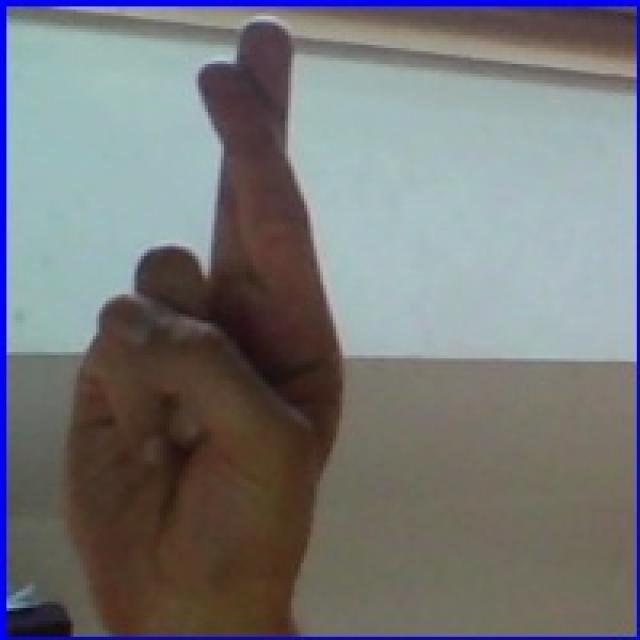R: (46, 9, 403, 633)
